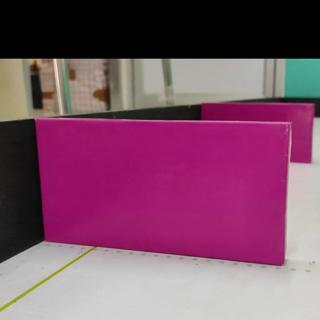xparking: (41, 119, 287, 264), (295, 104, 312, 164)
